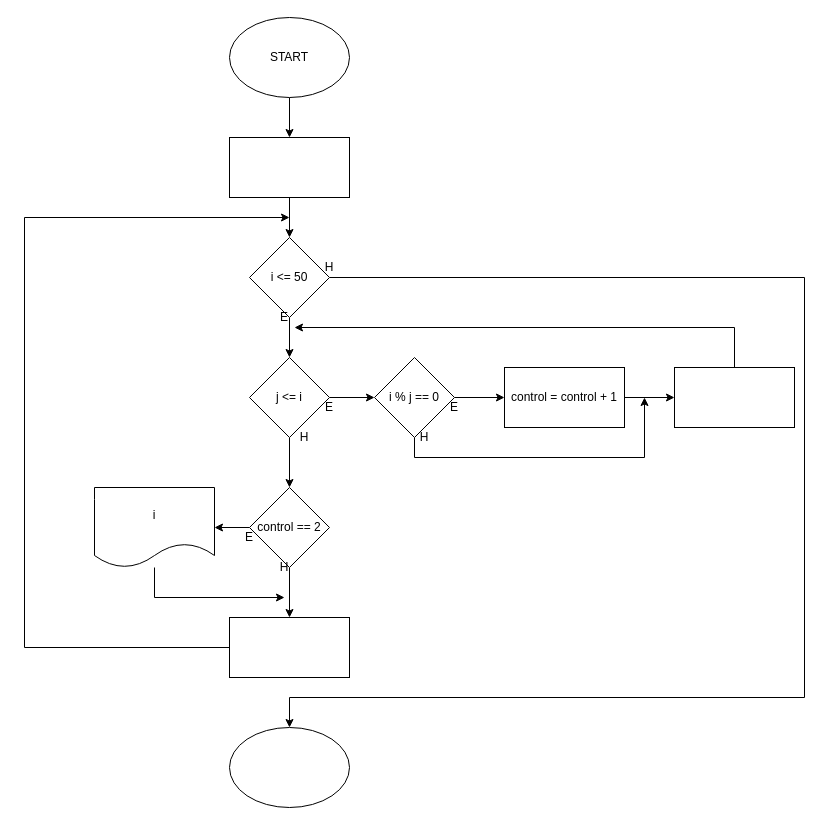
This 830x825 diagram has some shape labels left out. Each missing label, with the centre of its shape:
control = 0: (x=289, y=647)
control = 0, i = 1, j = 1: (x=289, y=167)
i = i + 1: (x=734, y=397)
STOP: (x=289, y=767)
